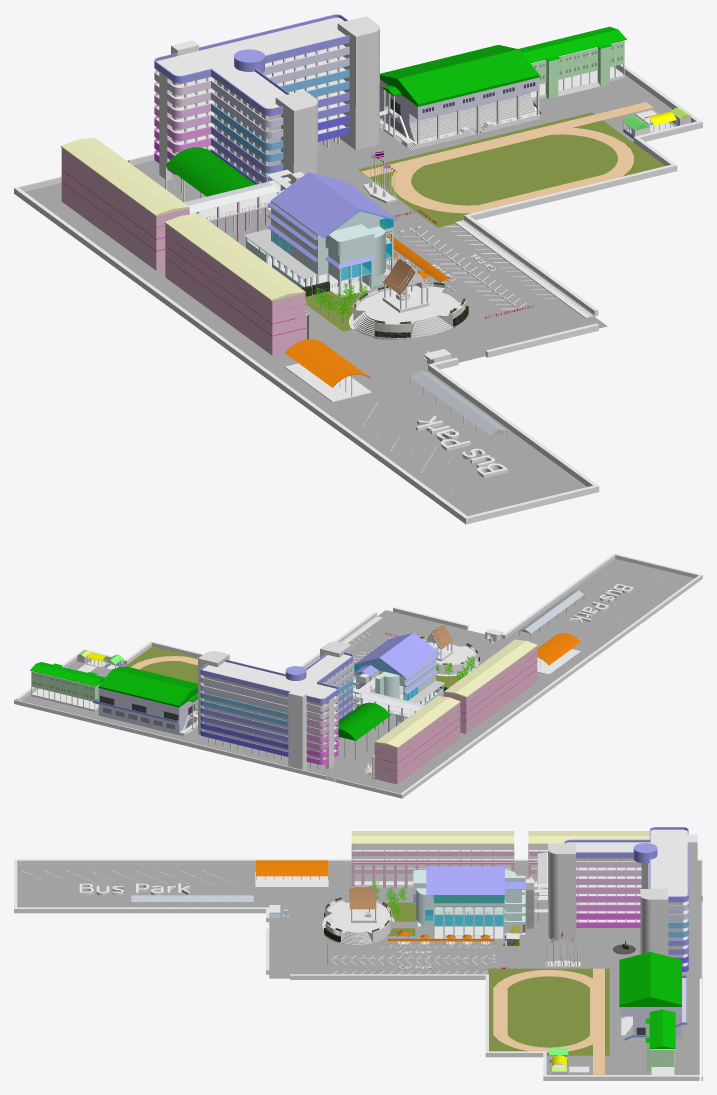
File: suankularb_wittayalai_nonthaburi_school.glb
3 views of the same model, one above another, from view 1: azimuth 30°, elevation 25°; view 2: azimuth 150°, elevation 25°; view 3: azimuth 270°, elevation 25° (orthographic). The views are drawn at different scales.
Parts seen in each view (by area): view 1: Object_13, Object_84, Object_77, Object_100, Object_70, Object_63, Object_81, Object_4, Object_67, Object_101, Object_68, Object_80 (+20 smaller); view 2: Object_13, Object_84, Object_77, Object_70, Object_68, Object_63, Object_82, Object_101, Object_80, Object_67, Object_69, Object_100 (+14 smaller); view 3: Object_13, Object_84, Object_100, Object_81, Object_83, Object_70, Object_63, Object_4, Object_67, Object_101, Object_80, Object_77 (+20 smaller).
Boxes of the visible parts, box(x1,y1,x2,y2) form: Object_13: box(25, 66, 677, 515); Object_84: box(14, 40, 702, 524); Object_77: box(61, 148, 309, 355); Object_100: box(305, 112, 664, 331); Object_70: box(154, 14, 633, 268); Object_63: box(60, 137, 305, 300); Object_81: box(275, 16, 379, 183); Object_4: box(361, 102, 653, 213); Object_67: box(246, 183, 393, 297); Object_101: box(380, 45, 539, 106); Object_68: box(211, 46, 539, 138); Object_80: box(156, 17, 383, 156); Object_13: box(21, 559, 694, 793); Object_84: box(14, 553, 702, 798); Object_77: box(372, 646, 537, 784); Object_70: box(106, 632, 438, 741); Object_68: box(93, 663, 352, 734); Object_63: box(375, 639, 537, 748); Object_82: box(203, 662, 374, 777); Object_101: box(98, 666, 197, 707); Object_80: box(106, 654, 351, 698); Object_67: box(353, 643, 443, 722); Object_69: box(200, 658, 403, 726); Object_100: box(125, 646, 465, 688); Object_13: box(17, 865, 702, 1074); Object_84: box(14, 834, 702, 1080); Object_100: box(384, 902, 609, 1055); Object_81: box(548, 843, 668, 956); Object_83: box(79, 844, 624, 1038); Object_70: box(413, 827, 688, 1062); Object_63: box(351, 831, 649, 844); Object_4: box(493, 968, 604, 1074); Object_67: box(413, 869, 525, 938); Object_101: box(619, 952, 681, 1006); Object_80: box(561, 829, 687, 936); Object_77: box(351, 844, 547, 887).
Size of the model in its own units: 214 by 43.33 by 286.
Materials: 88 (35 with a texture image).
